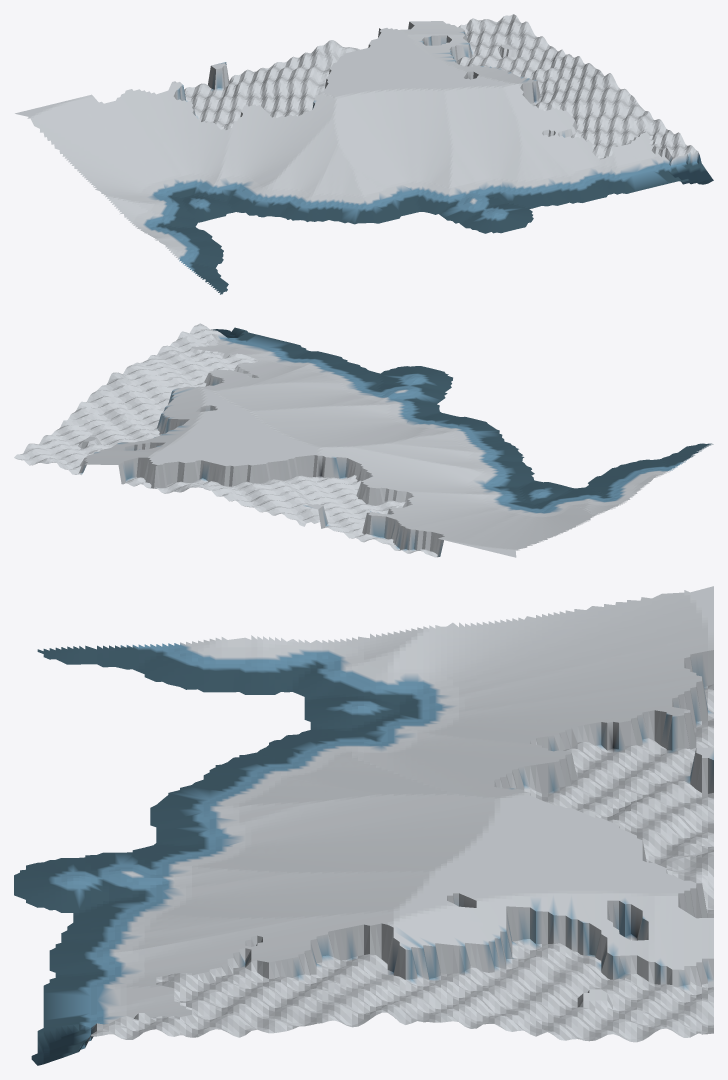
File: frost_tile_x3z0.glb
3 renders of one model, top to bottom at view 1: azimuth 30°, elevation 25°; view 2: azimuth 150°, elevation 25°; view 3: azimuth 270°, elevation 25°, orthographic. The views are drawn at different scales.
Visible parts, largest first — view 1: geometry_0; view 2: geometry_0; view 3: geometry_0.
Boxes of the visible parts, bbox=[...] form: geometry_0: bbox=[15, 14, 713, 294]; geometry_0: bbox=[14, 323, 713, 557]; geometry_0: bbox=[14, 586, 713, 1065].
Bounding box in the file's own units: 981 × 78 × 708.
